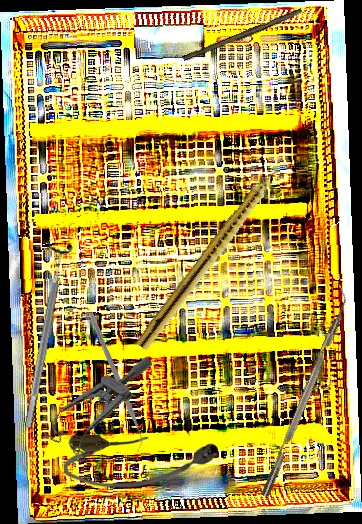Cannula: (64, 435, 218, 488)
Chopper: (250, 283, 357, 498), (38, 310, 190, 454)
Fixation Ring: (13, 237, 76, 432)
Handpiece: (135, 163, 285, 354)
Scalpel Handle: (182, 6, 304, 65)
Speculum: (37, 332, 154, 475)
